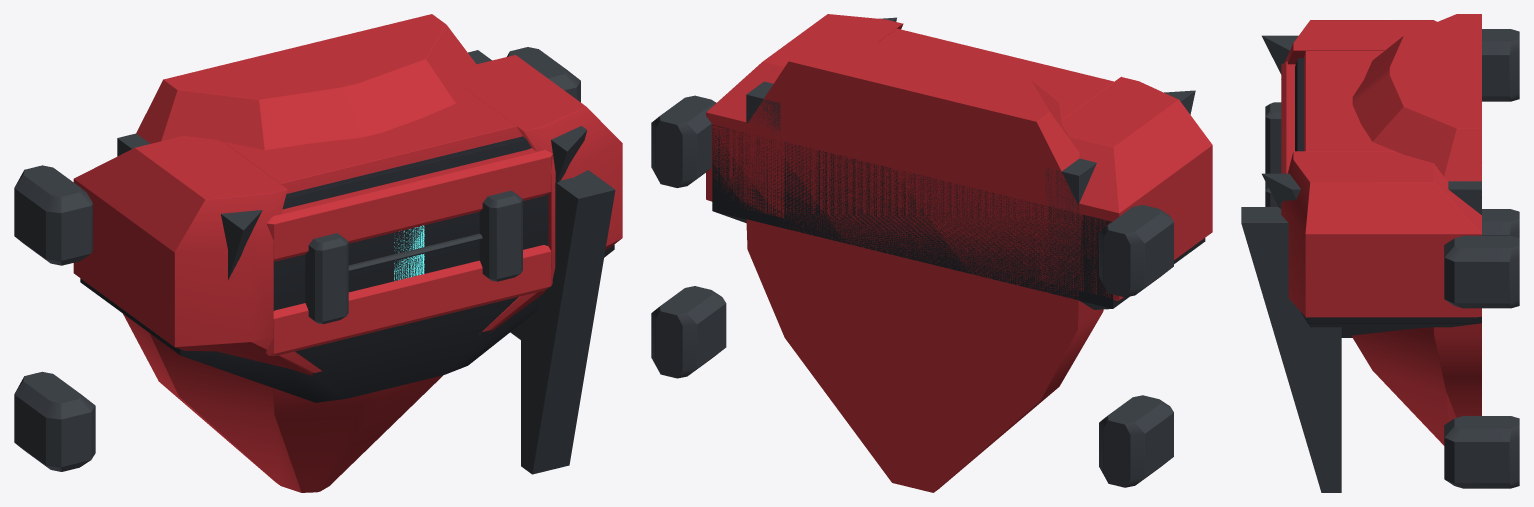
The model's file is LowerArmFront_Set03_Overclock.fbx.
The picture shows the model from 3 angles, left to right: view 1: azimuth 30°, elevation 25°; view 2: azimuth 150°, elevation 25°; view 3: azimuth 270°, elevation 25°; orthographic projection. The views are drawn at different scales.
Parts seen in each view (by area): view 1: LowerArmFront_Set03_Overclock; view 2: LowerArmFront_Set03_Overclock; view 3: LowerArmFront_Set03_Overclock.
Part boxes in pixels (<box>): LowerArmFront_Set03_Overclock: <box>14,14,622,492</box>; LowerArmFront_Set03_Overclock: <box>651,14,1212,492</box>; LowerArmFront_Set03_Overclock: <box>1241,14,1519,492</box>.
Bounding box in the file's own units: 0.43 × 0.33 × 0.222.
